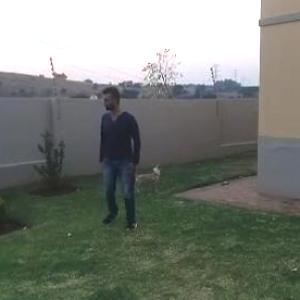follow: (96, 82, 146, 232)
